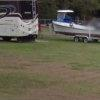Boat: (49, 10, 100, 47)
